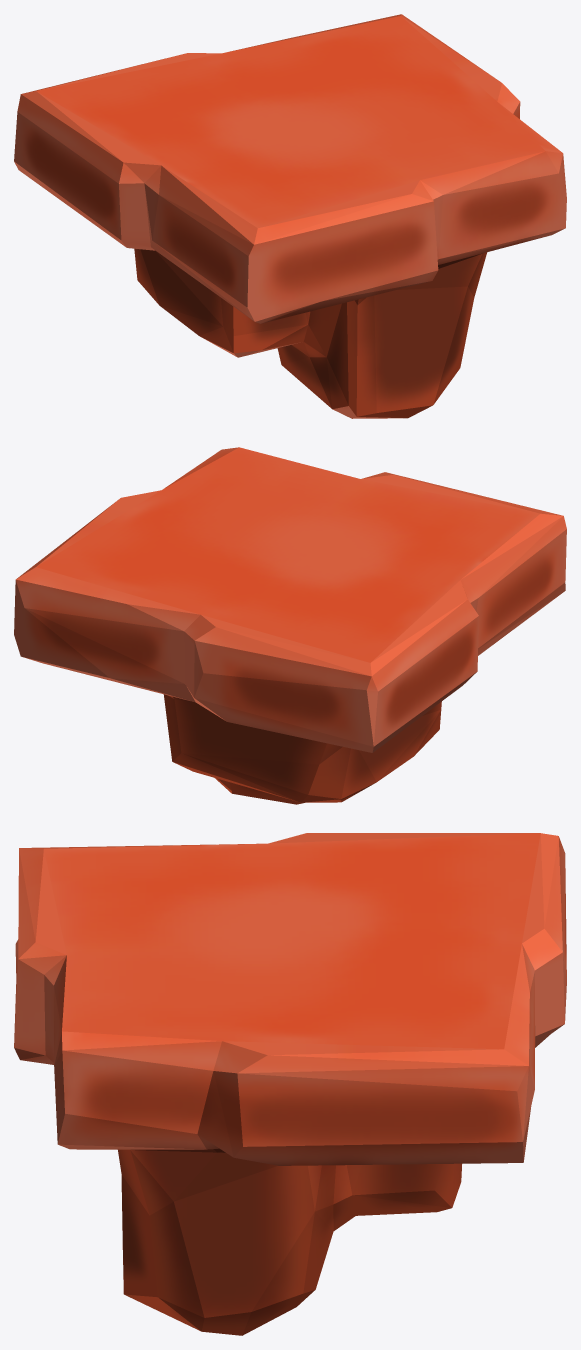
File: Platform_2_2.fbx
3 renders of one model, top to bottom at view 1: azimuth 30°, elevation 25°; view 2: azimuth 150°, elevation 25°; view 3: azimuth 270°, elevation 25°, orthographic. The views are drawn at different scales.
Visible parts, largest first — view 1: Cube.036; view 2: Cube.036; view 3: Cube.036.
Boxes of the visible parts, box(x1,y1,x2,y2) form: Cube.036: box(14, 14, 566, 418); Cube.036: box(14, 447, 566, 804); Cube.036: box(14, 833, 566, 1335).
Bounding box in the file's own units: 199 × 131 × 199.
